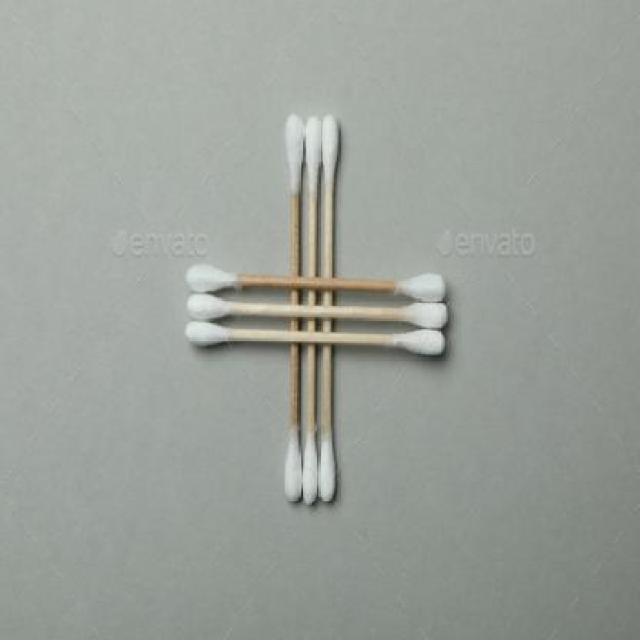B3: (193, 114, 453, 518)
